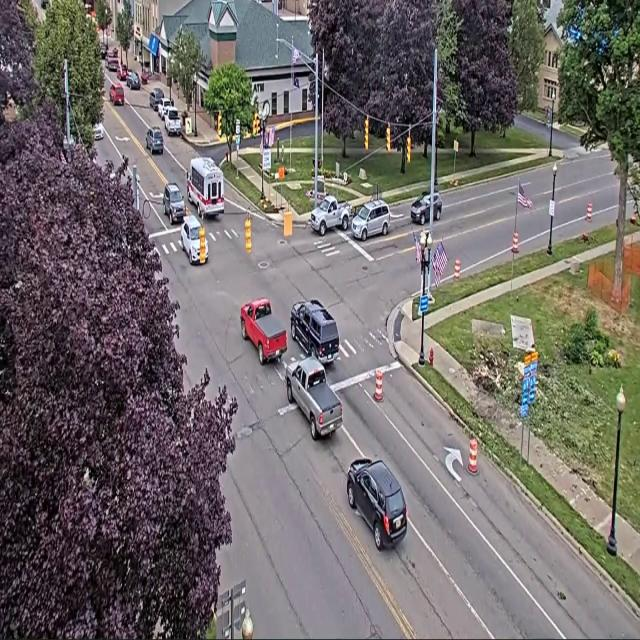car: (347, 458, 407, 550), (291, 300, 339, 364), (352, 200, 390, 240), (180, 216, 202, 264), (163, 184, 185, 223), (410, 192, 431, 225), (164, 107, 181, 135), (146, 128, 163, 154), (156, 97, 174, 119), (149, 88, 163, 111), (110, 83, 124, 105), (126, 71, 140, 89), (117, 64, 128, 81), (107, 56, 119, 71), (94, 122, 104, 140), (140, 69, 151, 84), (100, 43, 108, 59), (110, 47, 118, 57), (41, 0, 48, 9)
traffic signal: (199, 226, 206, 263), (245, 216, 251, 253), (253, 112, 259, 136), (364, 117, 368, 150), (407, 133, 411, 162), (386, 125, 390, 151), (217, 112, 221, 137)
truck: (286, 357, 342, 439), (241, 298, 287, 364), (310, 195, 351, 236)
